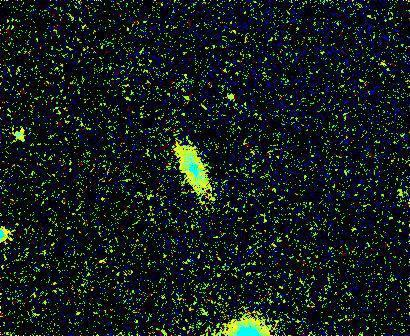star: (214, 80, 244, 110)
